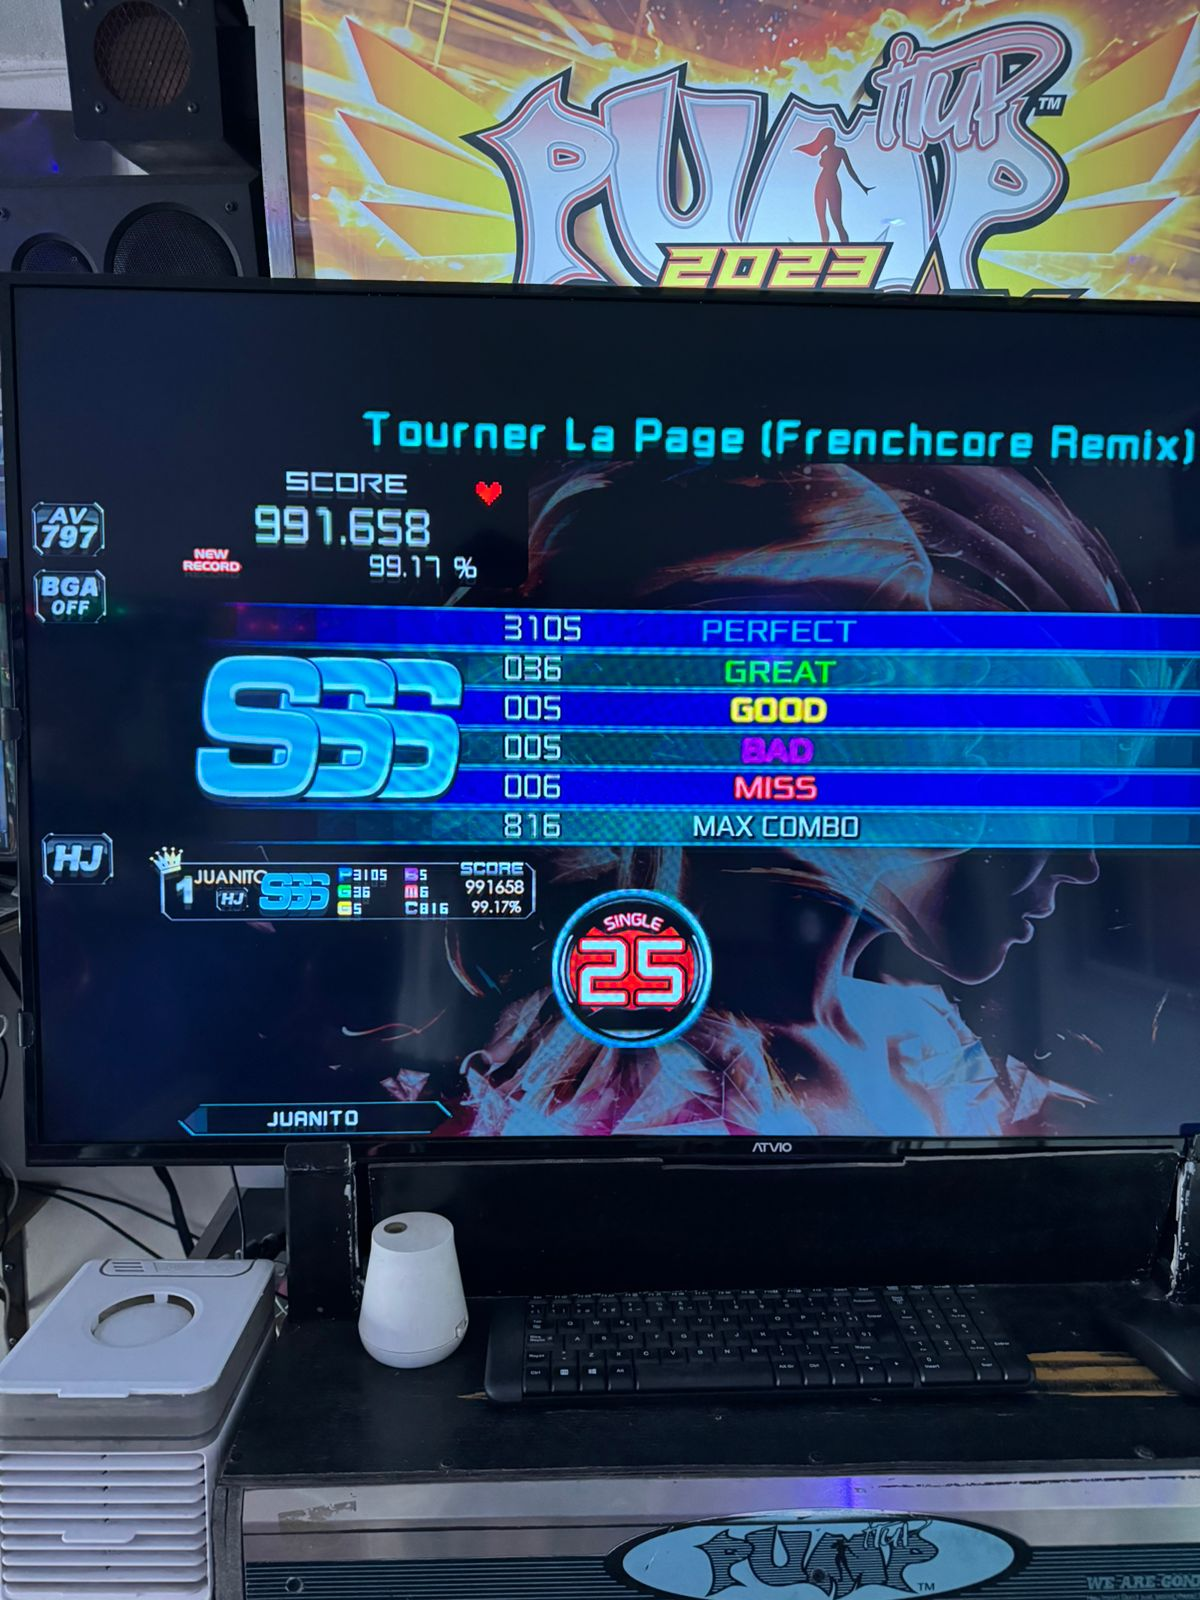difficulty: (524, 893, 774, 1060)
fullscore: (0, 302, 1163, 1478)
rank: (169, 641, 503, 814)
score: (228, 464, 495, 580)
song_name: (353, 384, 1200, 488)
